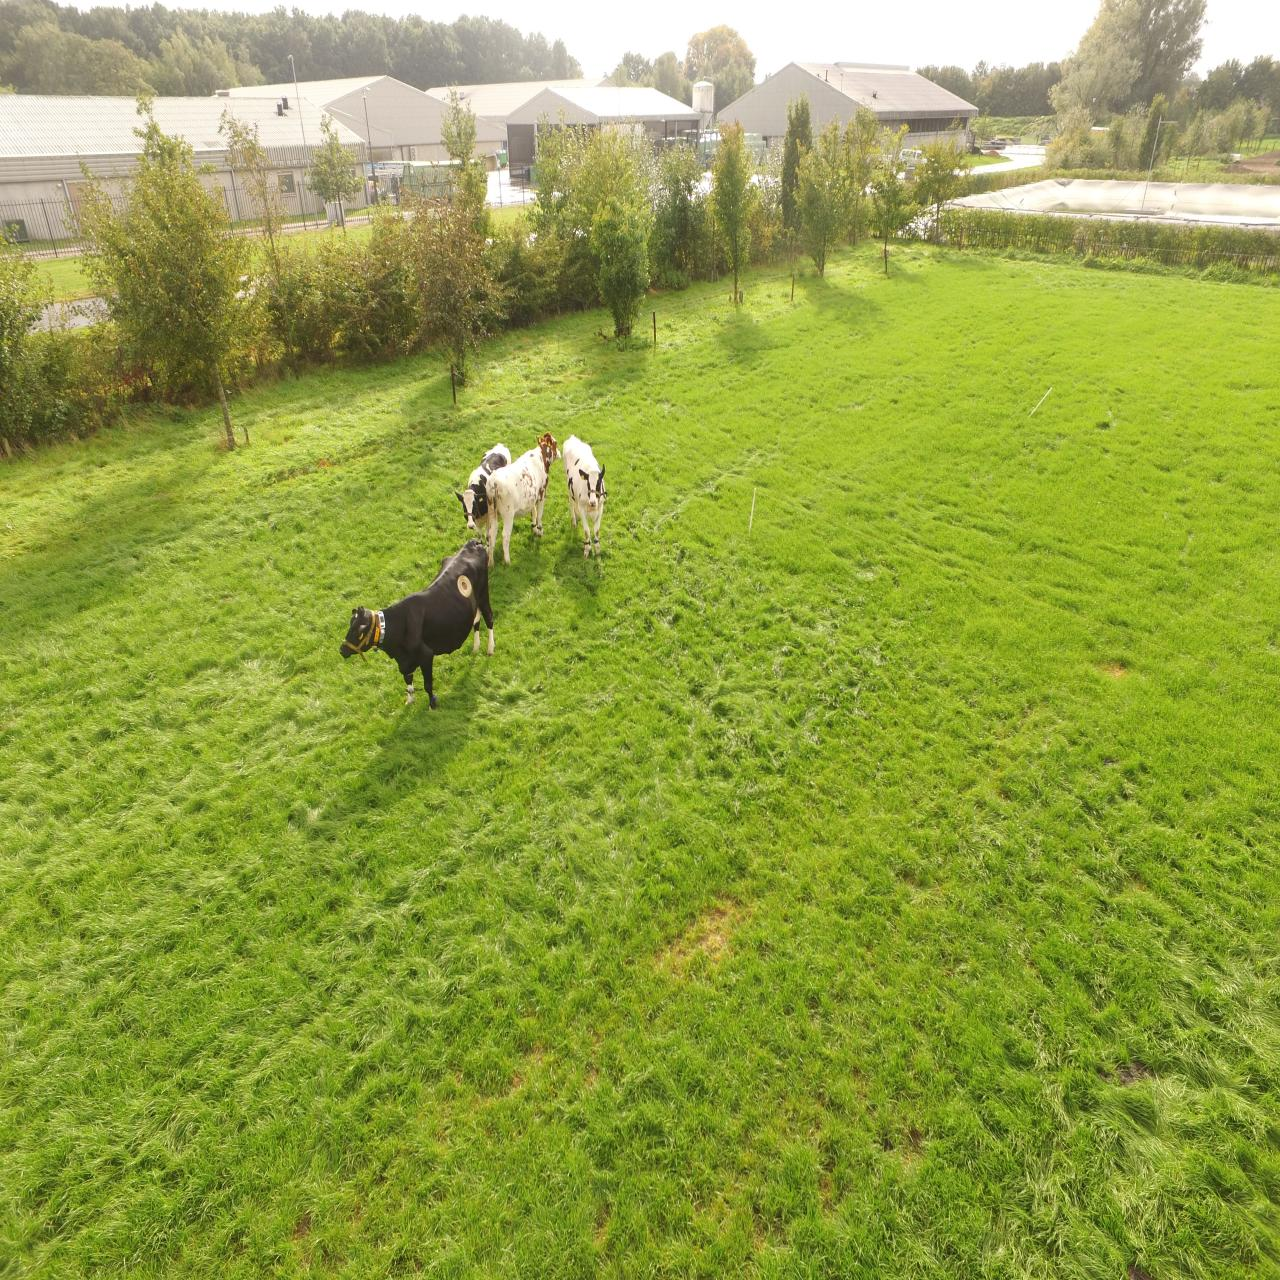cow: (339, 540, 497, 714), (486, 431, 561, 571), (561, 432, 609, 560), (457, 444, 514, 544)
